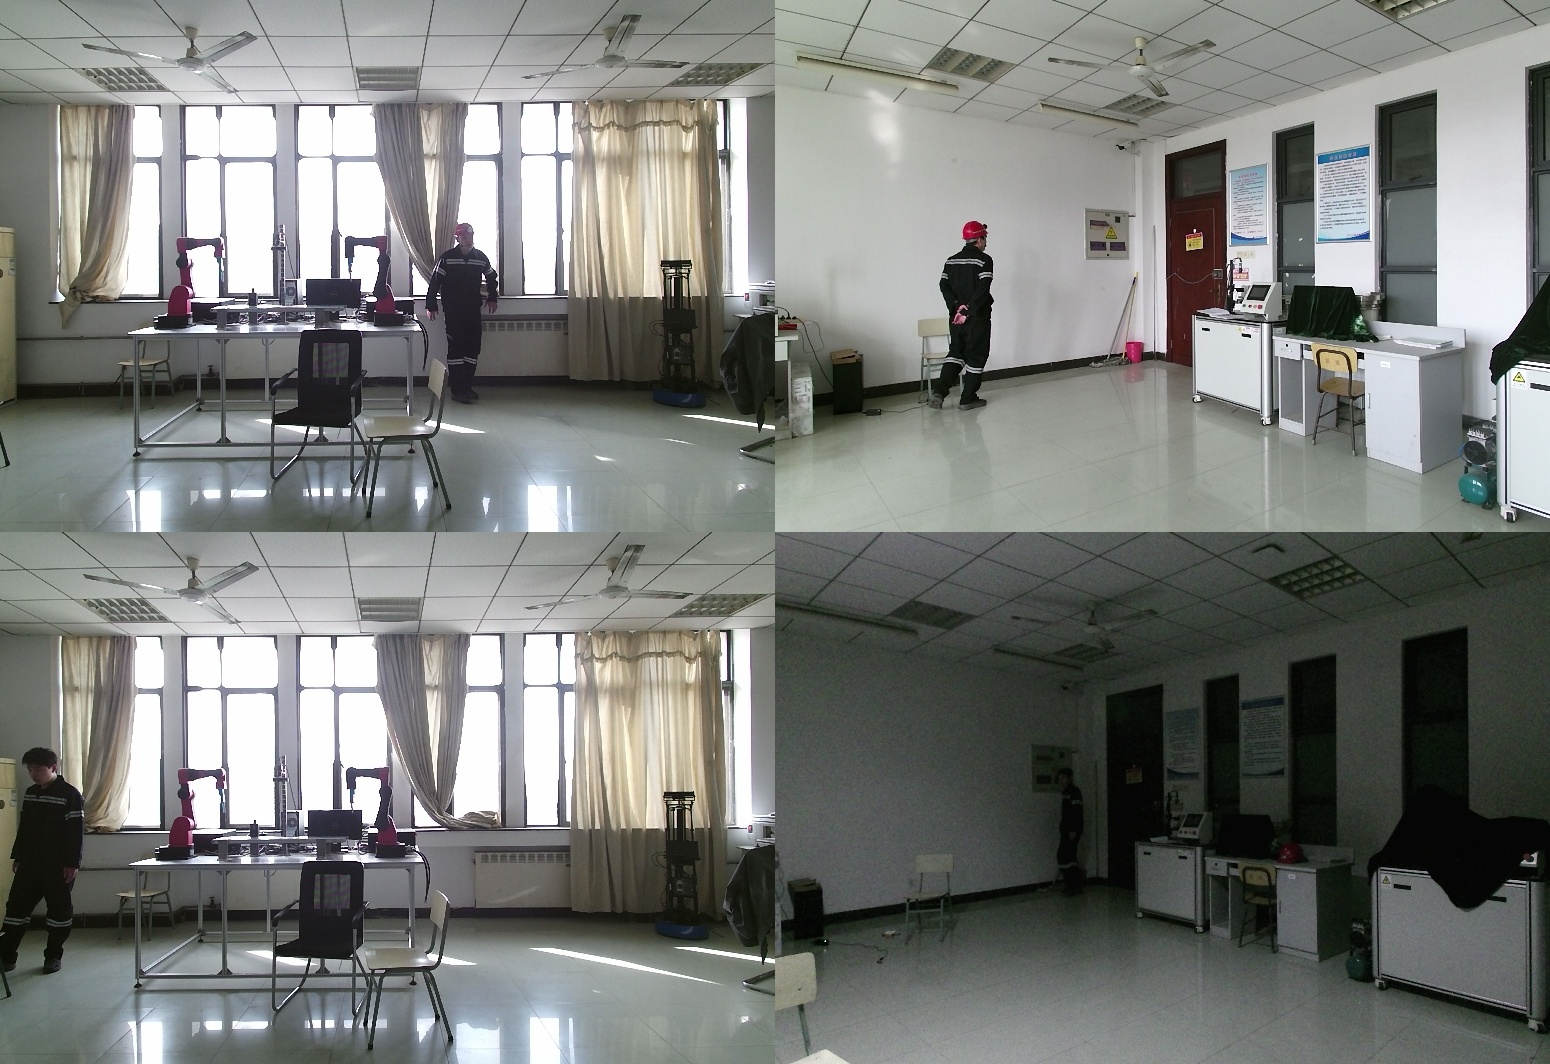person: (1, 747, 91, 973), (921, 220, 996, 420), (427, 225, 502, 413), (1049, 768, 1086, 901)
